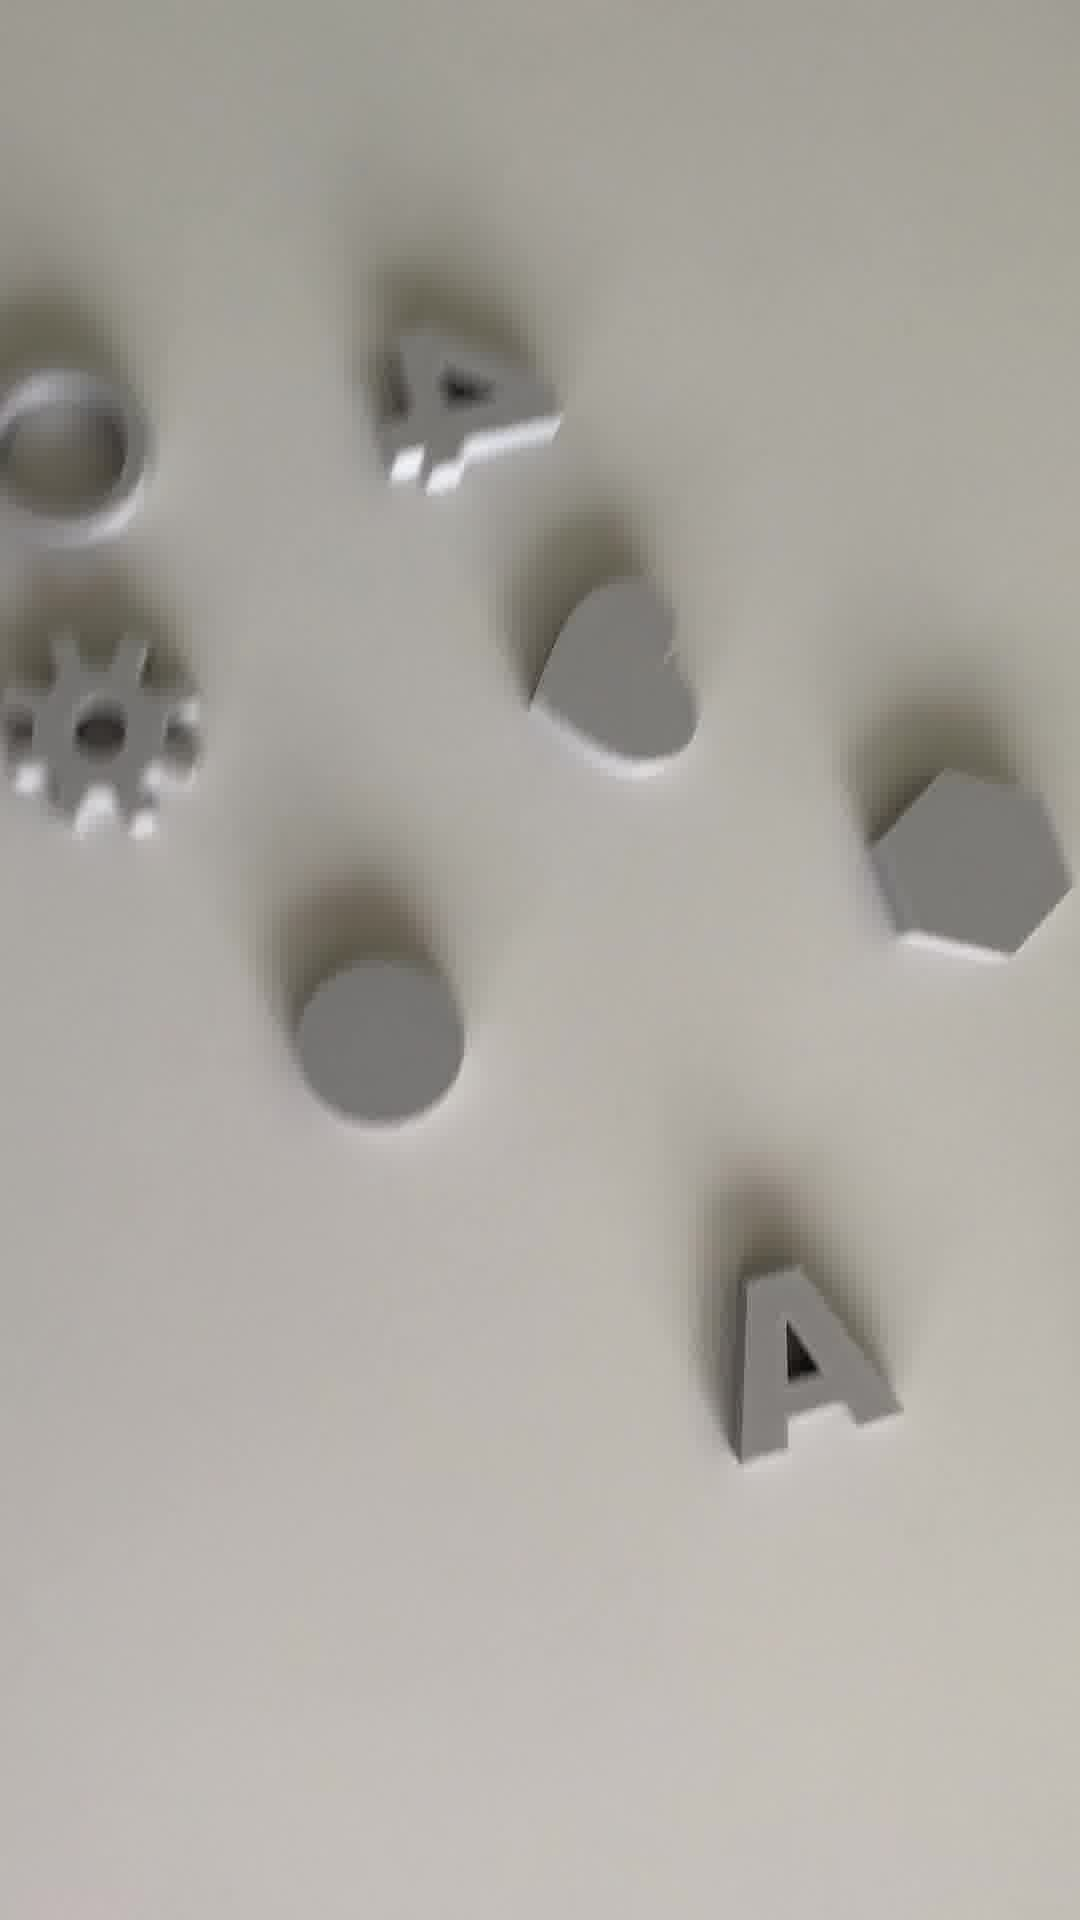Gray A-letter: (727, 1257, 902, 1462)
Gray circle: (287, 952, 467, 1149)
Gray four: (355, 320, 567, 497)
Gray gear: (1, 628, 229, 848)
Gray heart: (530, 587, 702, 775)
Gray hexagon: (876, 756, 1067, 971)
Gray ring: (1, 352, 165, 568)
